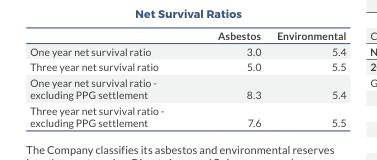table: (29, 28, 345, 128)
table column: (29, 28, 190, 128), (190, 28, 268, 128), (268, 28, 345, 128)
table column header: (29, 28, 345, 42)
table row: (29, 74, 345, 102), (29, 102, 345, 128), (29, 42, 345, 58), (29, 58, 345, 74), (29, 28, 345, 42)
